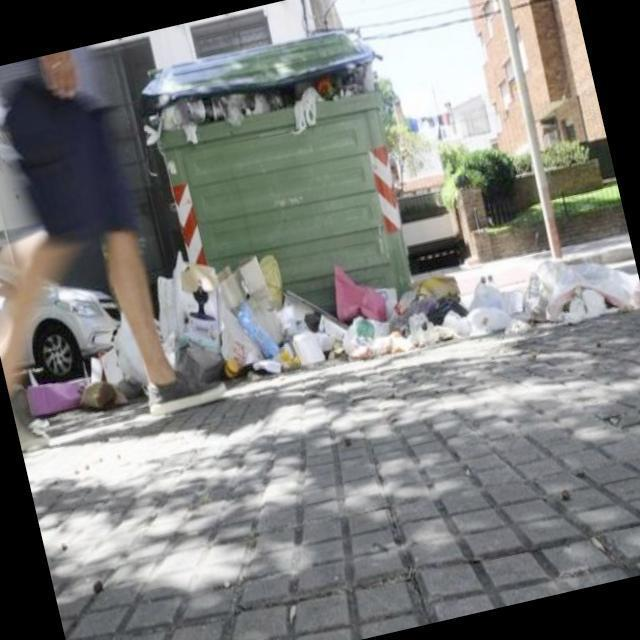garbage: (324, 193, 640, 385), (142, 222, 354, 430), (132, 46, 389, 170), (13, 335, 156, 435)
